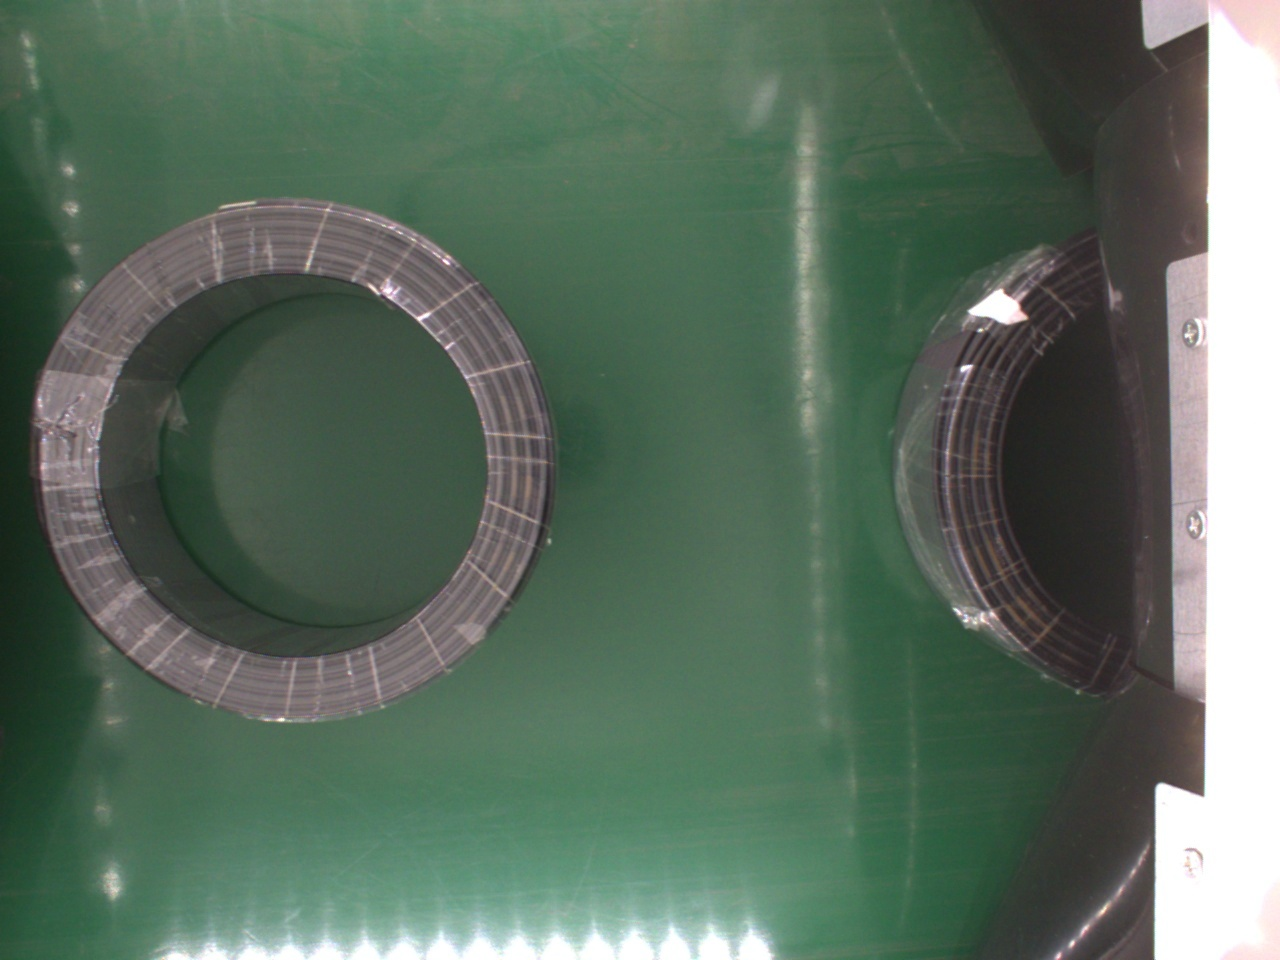black: (30, 202, 556, 723), (888, 234, 1125, 696)
